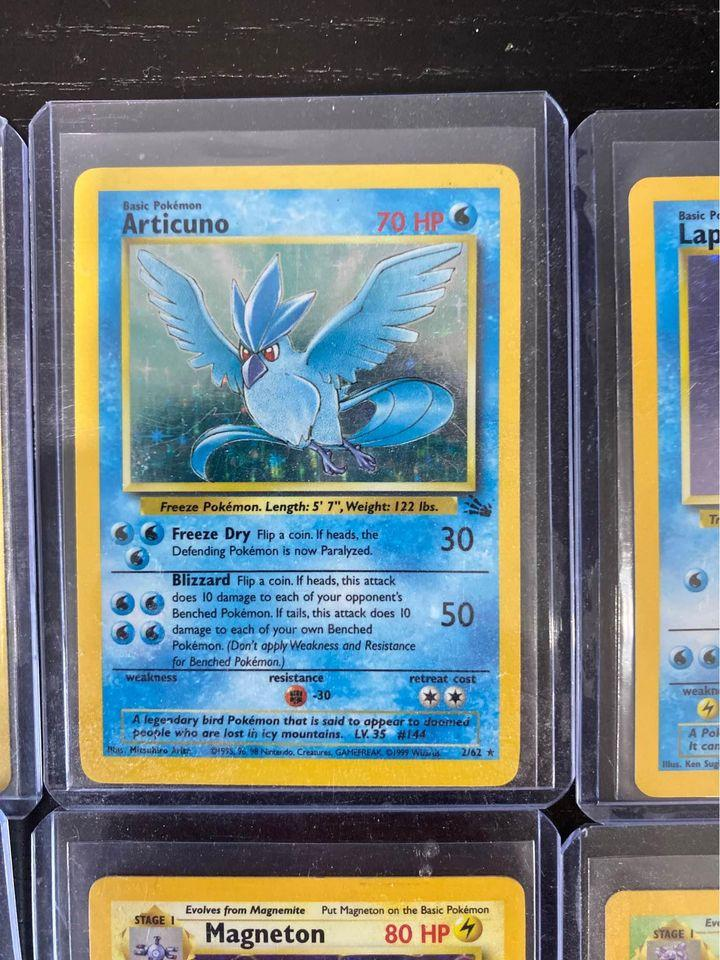card: (73, 163, 521, 787), (625, 175, 720, 800), (87, 874, 528, 960)
